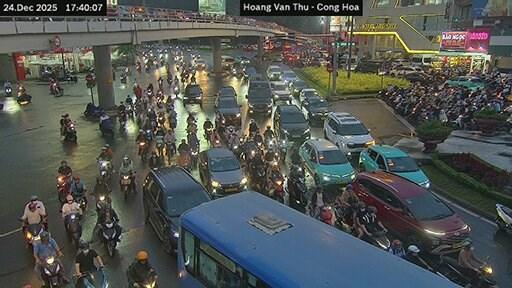motorbike: (434, 255, 495, 287), (285, 166, 307, 211), (332, 202, 357, 233), (41, 256, 63, 286), (76, 268, 108, 286), (362, 230, 390, 250), (64, 212, 80, 247), (102, 220, 117, 256), (496, 203, 511, 233), (250, 165, 265, 189), (57, 175, 70, 202), (137, 268, 156, 286), (26, 225, 42, 246), (317, 205, 332, 225), (73, 189, 86, 210), (120, 174, 131, 198), (272, 176, 282, 202), (83, 103, 103, 116), (96, 194, 111, 211), (227, 136, 239, 157), (99, 160, 111, 180), (99, 117, 112, 135), (64, 121, 76, 140), (189, 143, 198, 167), (137, 140, 147, 161), (154, 135, 163, 157), (166, 141, 175, 163), (278, 139, 285, 162), (50, 82, 63, 94), (16, 94, 31, 104), (144, 129, 153, 142), (204, 126, 211, 142), (154, 90, 163, 102), (118, 111, 125, 126), (169, 112, 176, 126), (166, 98, 173, 112), (157, 112, 163, 126), (172, 85, 178, 97), (212, 139, 220, 147), (3, 86, 10, 95), (157, 79, 162, 89), (120, 75, 125, 82)
